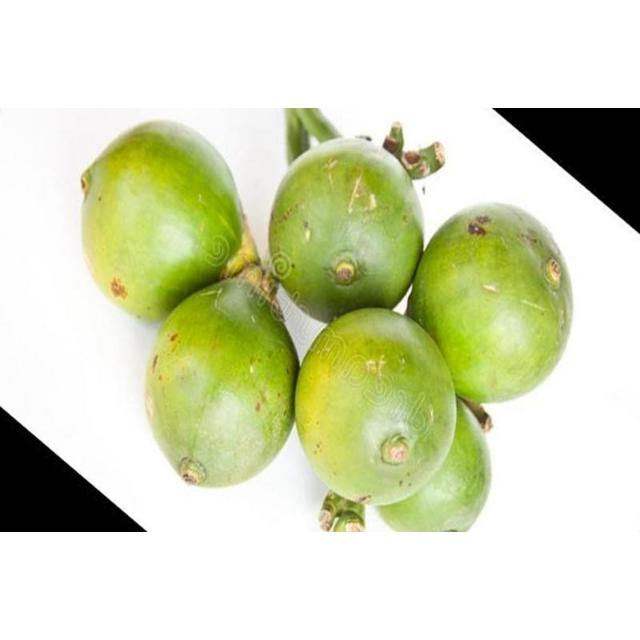good: (80, 119, 248, 321), (146, 274, 300, 490), (294, 308, 460, 508), (414, 206, 576, 404), (268, 127, 428, 323)
